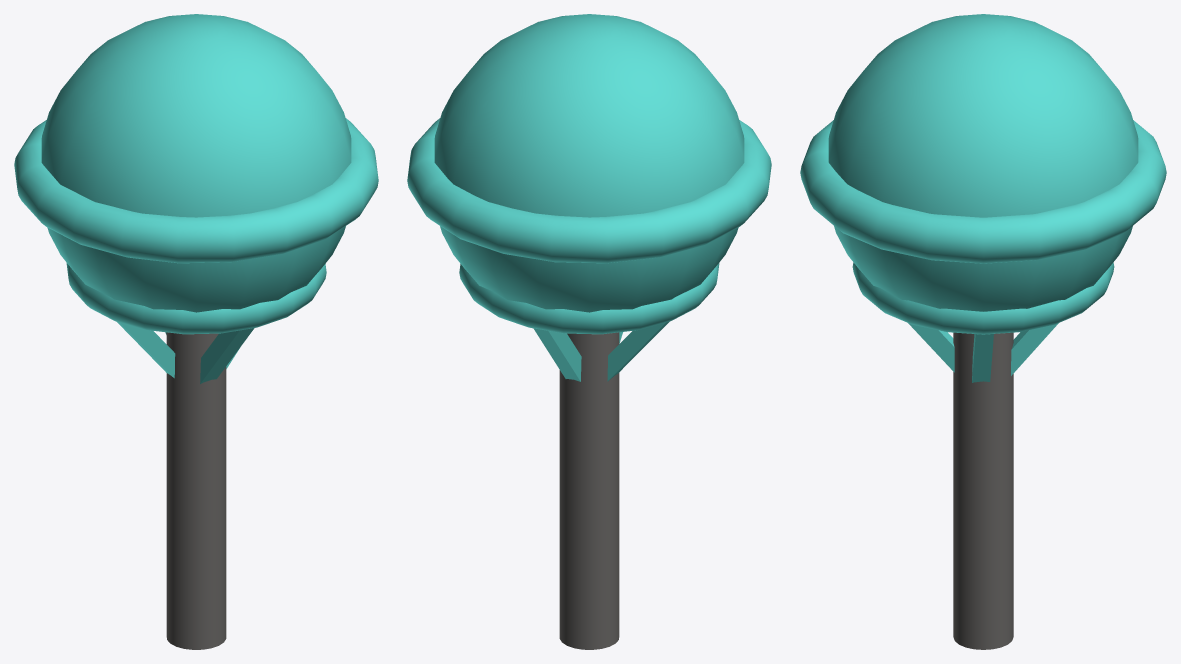
The model's file is blue.fbx.
3 renders of one model, left to right at view 1: azimuth 30°, elevation 25°; view 2: azimuth 150°, elevation 25°; view 3: azimuth 270°, elevation 25°, orthographic.
Visible parts, largest first — view 1: Blue; view 2: Blue; view 3: Blue.
Part boxes in pixels (bbox=[...]): Blue: bbox=[14, 14, 378, 649]; Blue: bbox=[407, 14, 771, 649]; Blue: bbox=[800, 14, 1166, 649].
Bounding box in the file's own units: 12.42 × 22.78 × 12.42.
